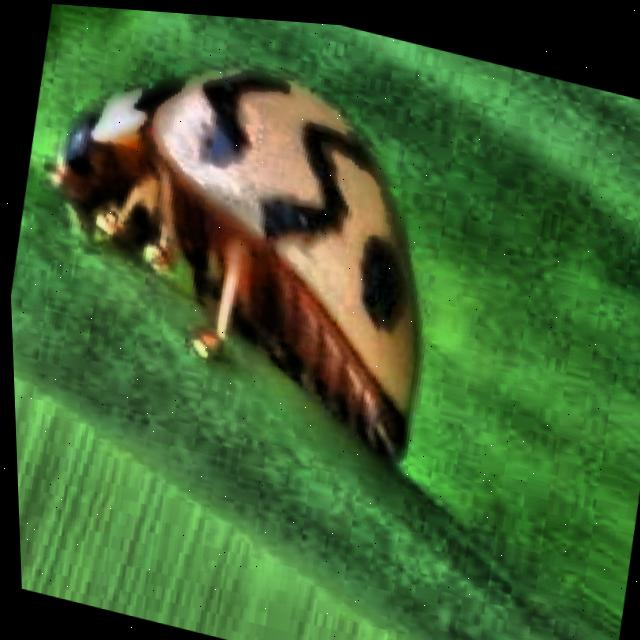Asian-Lady-beetle: (0, 0, 575, 525)
